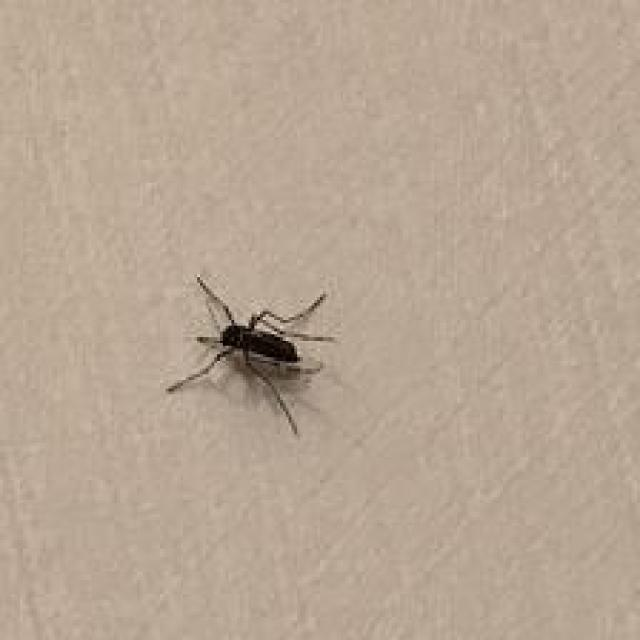Aedes albopictus: (164, 272, 339, 437)
